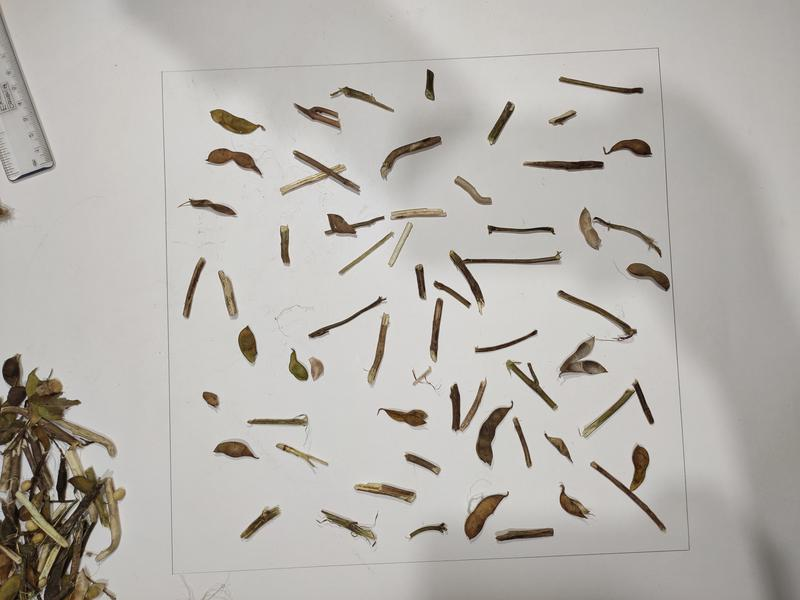Kadi: (590, 460, 668, 535), (556, 289, 641, 342), (308, 295, 387, 338), (576, 388, 638, 439), (292, 149, 362, 193), (314, 506, 382, 551), (592, 216, 663, 258), (380, 135, 442, 180), (448, 249, 489, 316), (503, 359, 557, 408), (475, 399, 514, 465), (338, 231, 395, 275), (464, 488, 509, 540), (279, 163, 347, 196), (558, 335, 609, 378), (556, 75, 644, 96), (205, 148, 264, 179), (330, 85, 395, 113), (366, 312, 390, 385), (181, 256, 207, 321), (209, 107, 267, 136), (352, 479, 417, 504), (274, 441, 331, 469), (474, 329, 538, 353), (240, 506, 285, 540), (558, 482, 596, 522), (461, 377, 488, 433), (461, 251, 564, 264), (487, 101, 516, 147), (626, 262, 670, 292), (294, 102, 342, 129), (324, 215, 385, 236), (510, 417, 535, 468), (629, 377, 655, 426), (454, 174, 493, 206), (388, 220, 414, 268), (432, 279, 473, 309), (178, 198, 237, 218), (374, 406, 430, 427), (628, 445, 652, 493), (542, 431, 575, 464), (217, 270, 239, 318), (602, 138, 654, 158), (579, 207, 602, 252), (246, 413, 310, 429), (522, 160, 605, 172), (404, 450, 442, 476), (213, 440, 260, 460), (429, 297, 443, 363), (495, 527, 556, 542), (487, 223, 556, 236), (286, 345, 309, 383), (238, 325, 259, 365), (409, 521, 450, 540), (390, 208, 448, 221), (325, 213, 357, 235), (411, 366, 440, 390), (449, 382, 462, 432), (279, 223, 292, 266), (548, 109, 578, 127), (414, 264, 428, 300), (307, 357, 327, 382), (424, 66, 436, 101), (202, 390, 221, 409)
